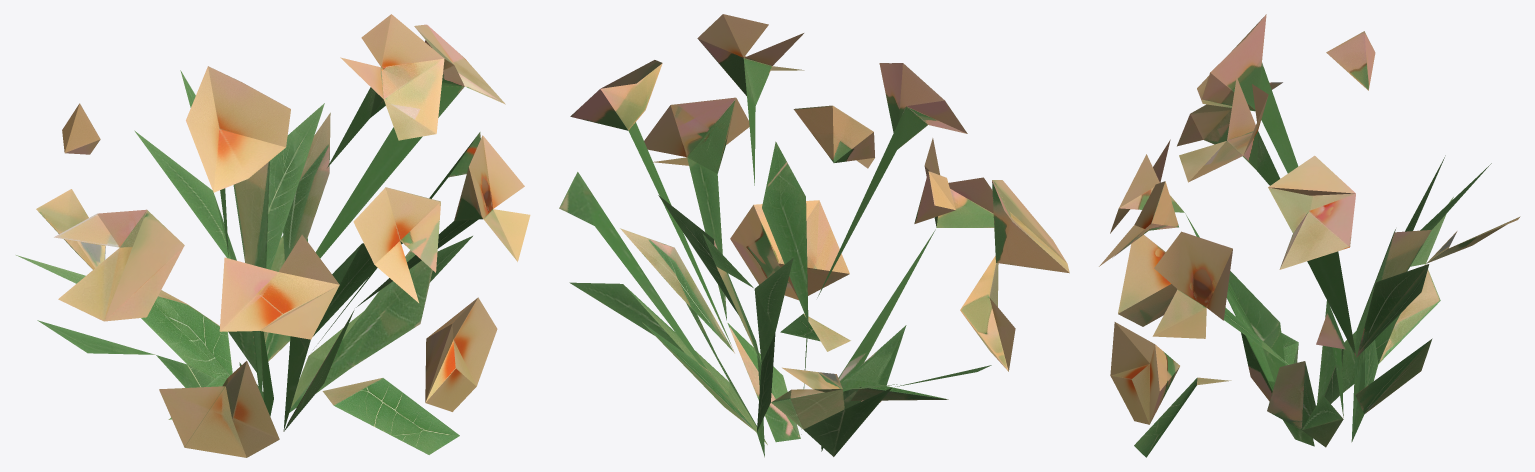
Rendered from flower_patch.glb.
3 views of the same model, side by side, from view 1: azimuth 30°, elevation 25°; view 2: azimuth 150°, elevation 25°; view 3: azimuth 270°, elevation 25° (orthographic). The views are drawn at different scales.
Bounding box in the file's own units: 1.83 × 1.5 × 1.47.
1 material, 1 textured.
